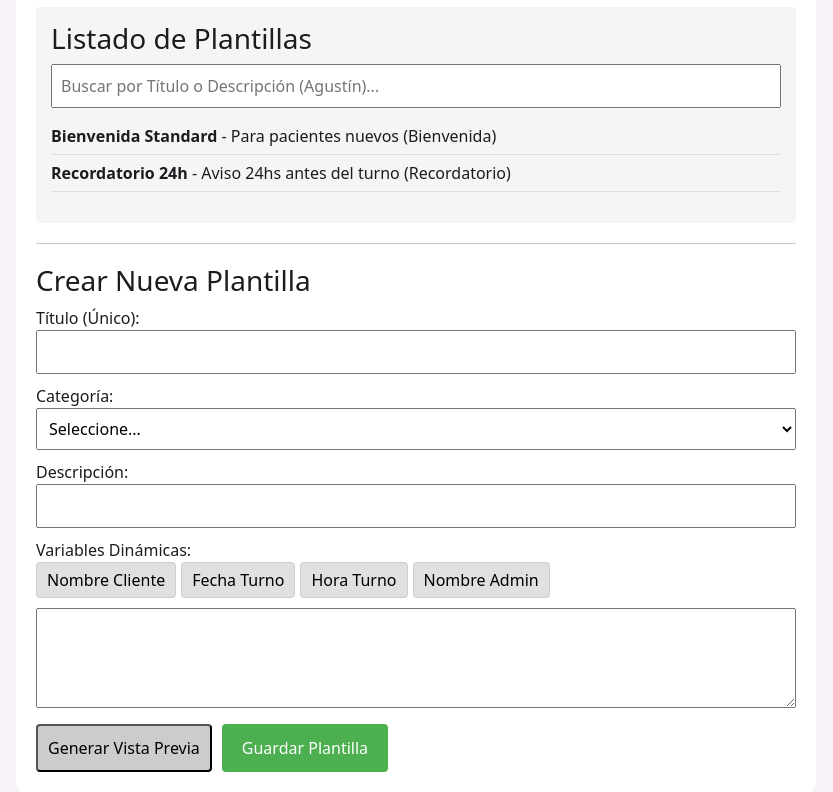
Test case: AgendaYA - M06 Notificaciones y Comunicaciones › Debe mostrar un mensaje de error si se intenta guardar con campos vacíos
(page scrolled)
intentamos guardar
Click the button with test id "save-template" at (305, 748), box left=222, top=724, right=388, bottom=772
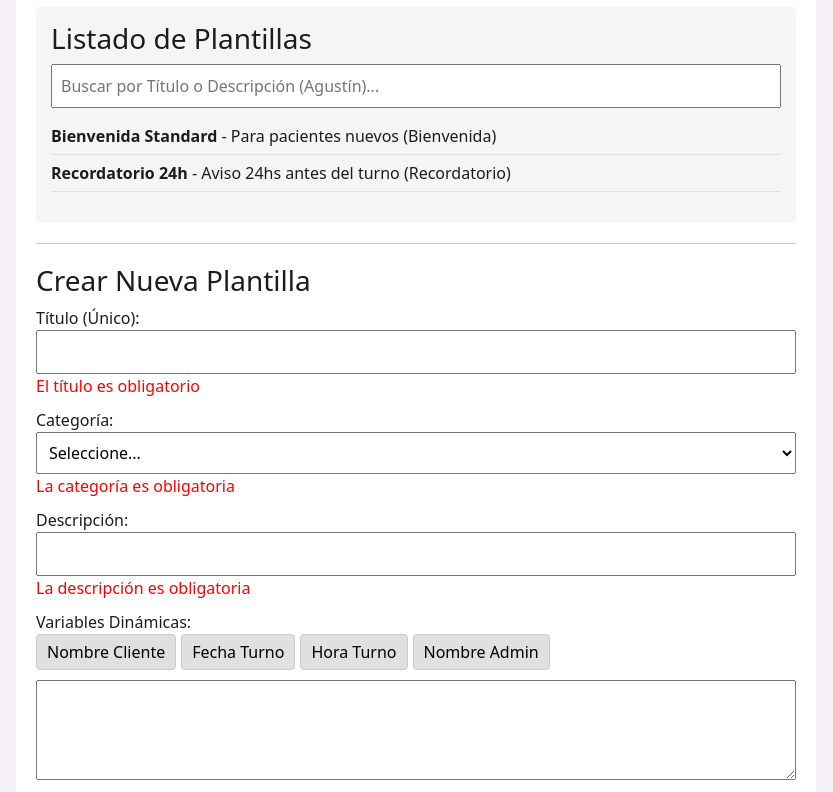
Check: the text with test id "error-message" reads "El título es obligatorio", box left=36, top=375, right=200, bottom=397
